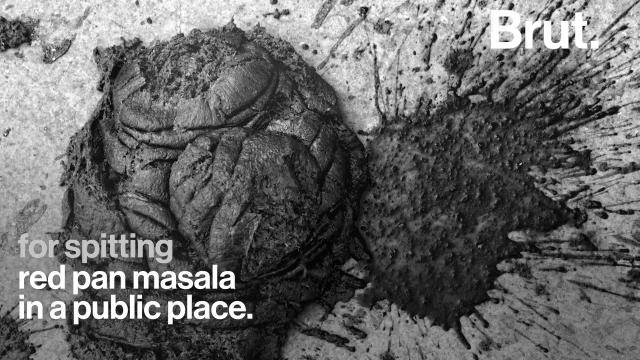spit: (401, 62, 595, 336)
